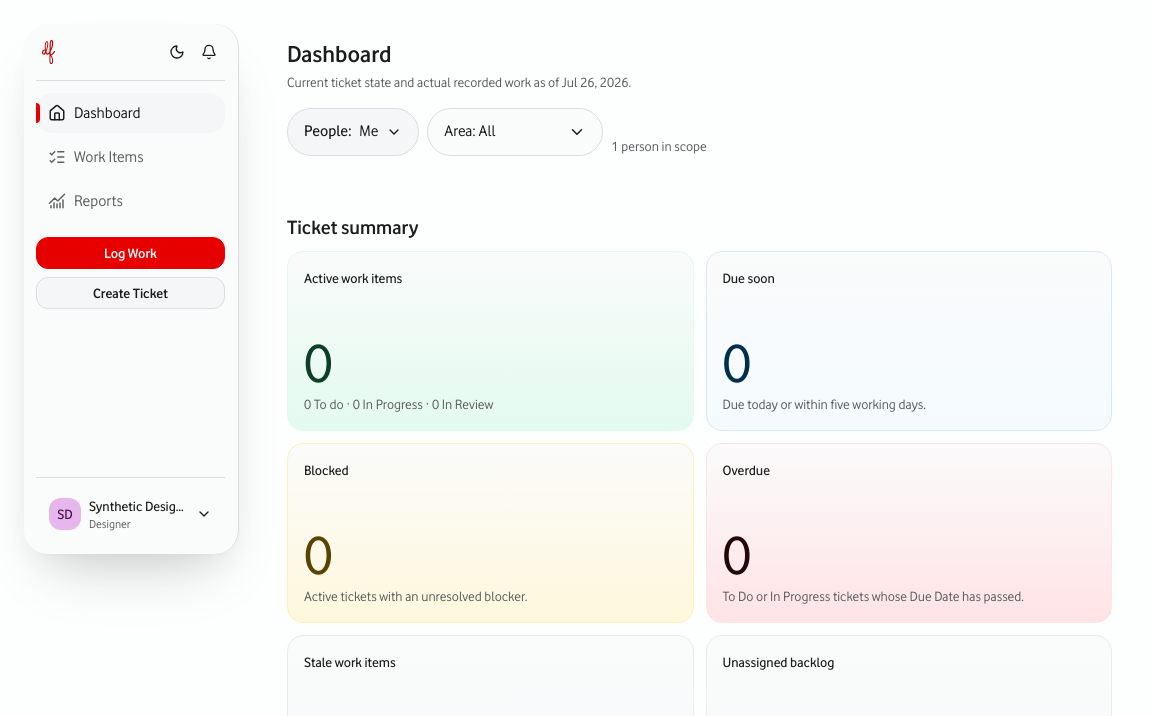
Test: authenticated application routing › switches theme without changing the authenticated account state
Expected: the text "Synthetic Designer" is shown, [89,496,188,516]
Click the button named "Switch to dark mode" at (177, 52), box [161,36,193,68]
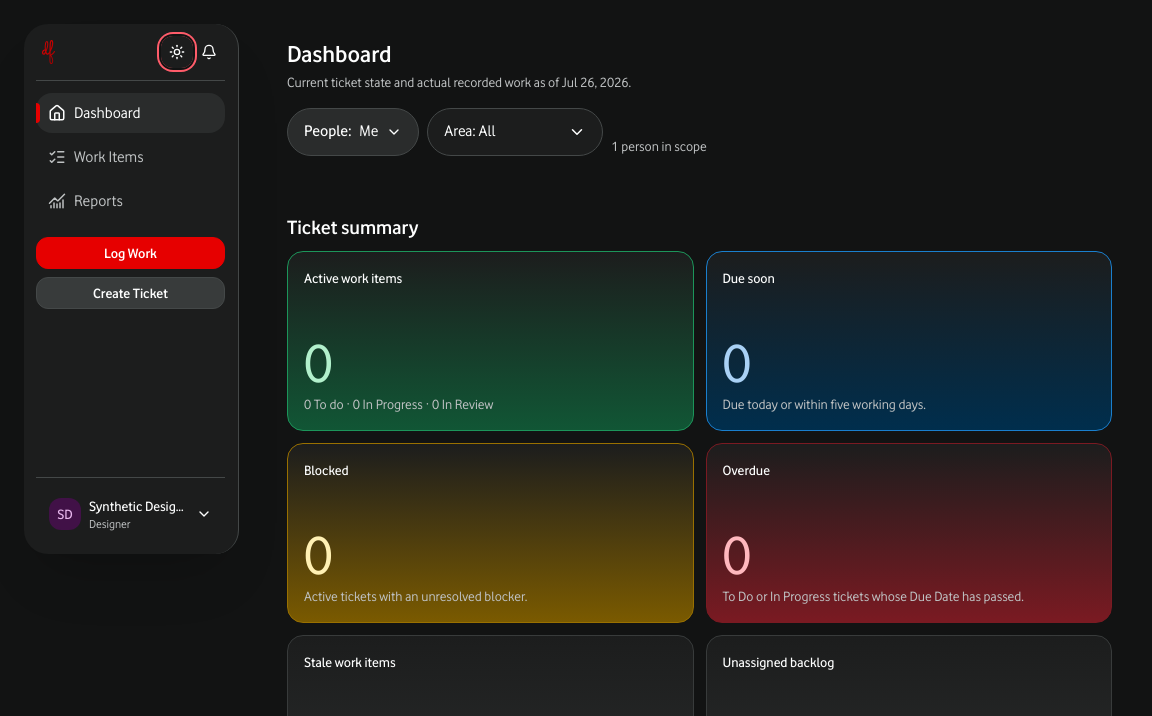
Expected: the button named "Switch to light mode" is shown, [161,36,193,68]
